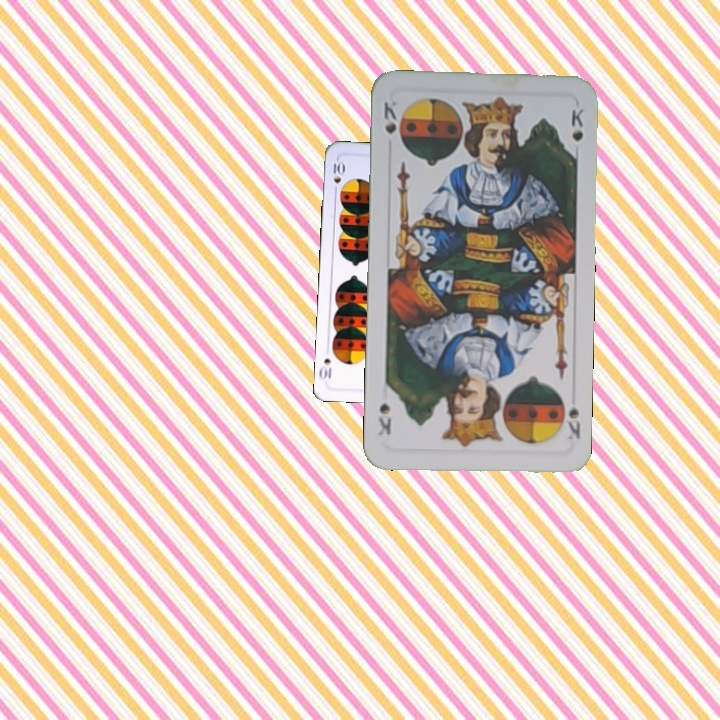S10: (329, 156, 346, 196)
SK: (380, 97, 400, 137), (563, 402, 583, 442)
